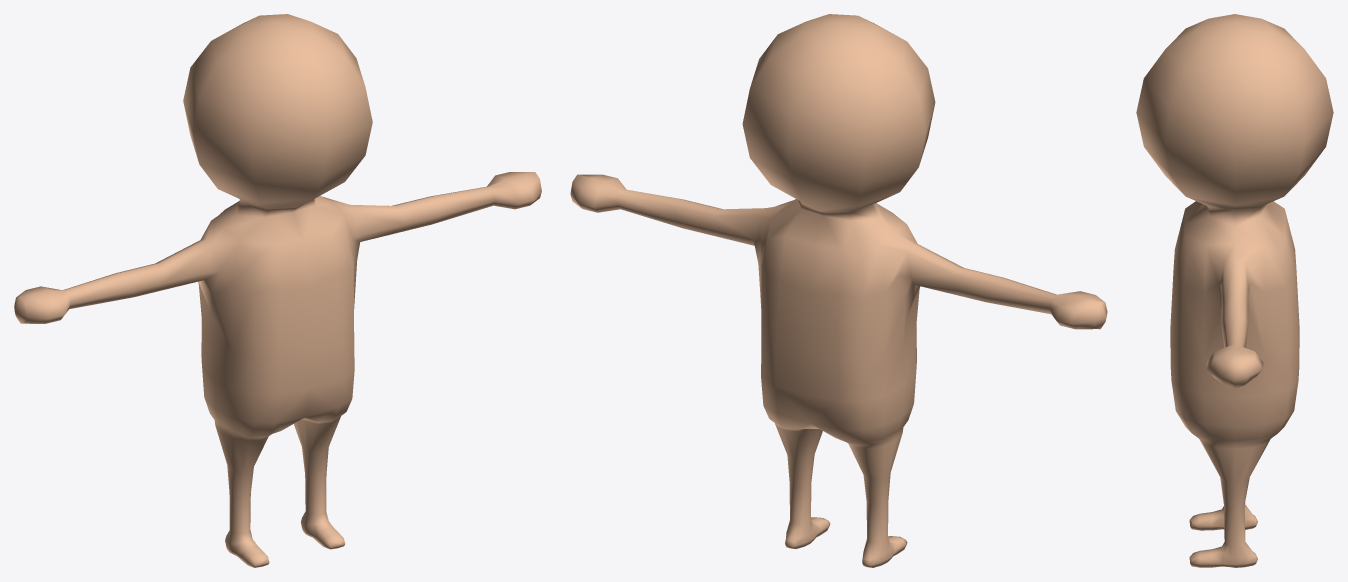
The model's file is nin.fbx.
The picture shows the model from 3 angles, left to right: view 1: azimuth 30°, elevation 25°; view 2: azimuth 150°, elevation 25°; view 3: azimuth 270°, elevation 25°; orthographic projection.
Parts seen in each view (by area): view 1: Nin; view 2: Nin; view 3: Nin.
Part boxes in pixels (<box>): Nin: <box>14,14,541,567</box>; Nin: <box>570,14,1107,567</box>; Nin: <box>1136,14,1333,567</box>.
Size of the model in its own units: 1.24 by 1.17 by 0.4.
